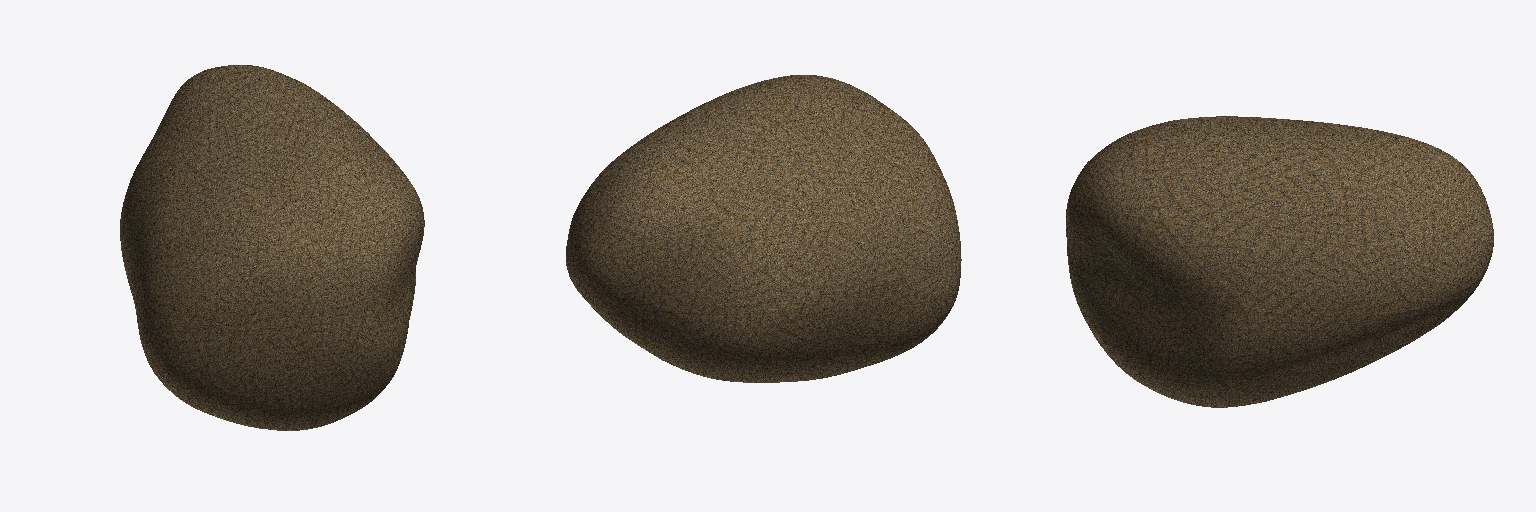
3 renders of one model, left to right at view 1: azimuth 30°, elevation 25°; view 2: azimuth 150°, elevation 25°; view 3: azimuth 270°, elevation 25°, orthographic.
Parts seen in each view (by area): view 1: Icosphere; view 2: Icosphere; view 3: Icosphere.
Boxes of the visible parts, x1,y1,x2,y2 form: Icosphere: [120, 65, 424, 430]; Icosphere: [566, 75, 961, 382]; Icosphere: [1066, 116, 1493, 407].
Bounding box in the file's own units: 1.11 × 1.01 × 1.43.
Materials: 1 (1 with a texture image).